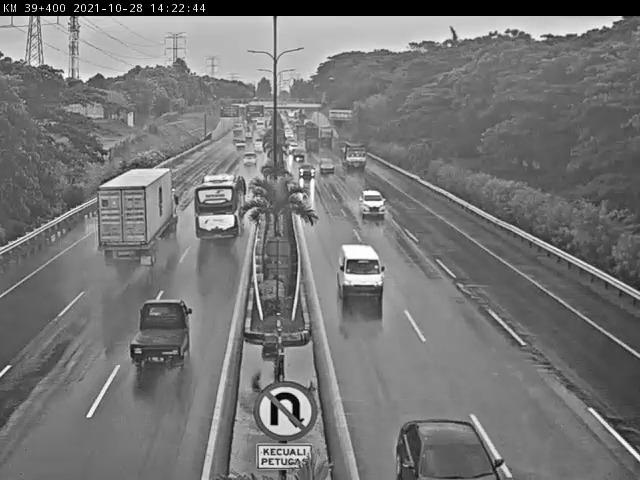big bus: (189, 170, 259, 245)
big truck: (90, 166, 181, 269), (337, 141, 366, 170), (303, 130, 324, 153)
car: (373, 372, 478, 477), (125, 295, 195, 375), (335, 244, 386, 306), (355, 187, 392, 221), (297, 163, 317, 180), (241, 152, 258, 171), (318, 158, 337, 175), (292, 147, 307, 162), (251, 141, 267, 155)
